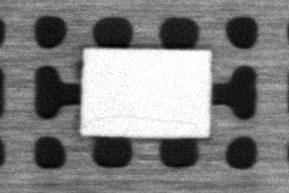DIE_CRACK: (100, 112, 198, 126)
